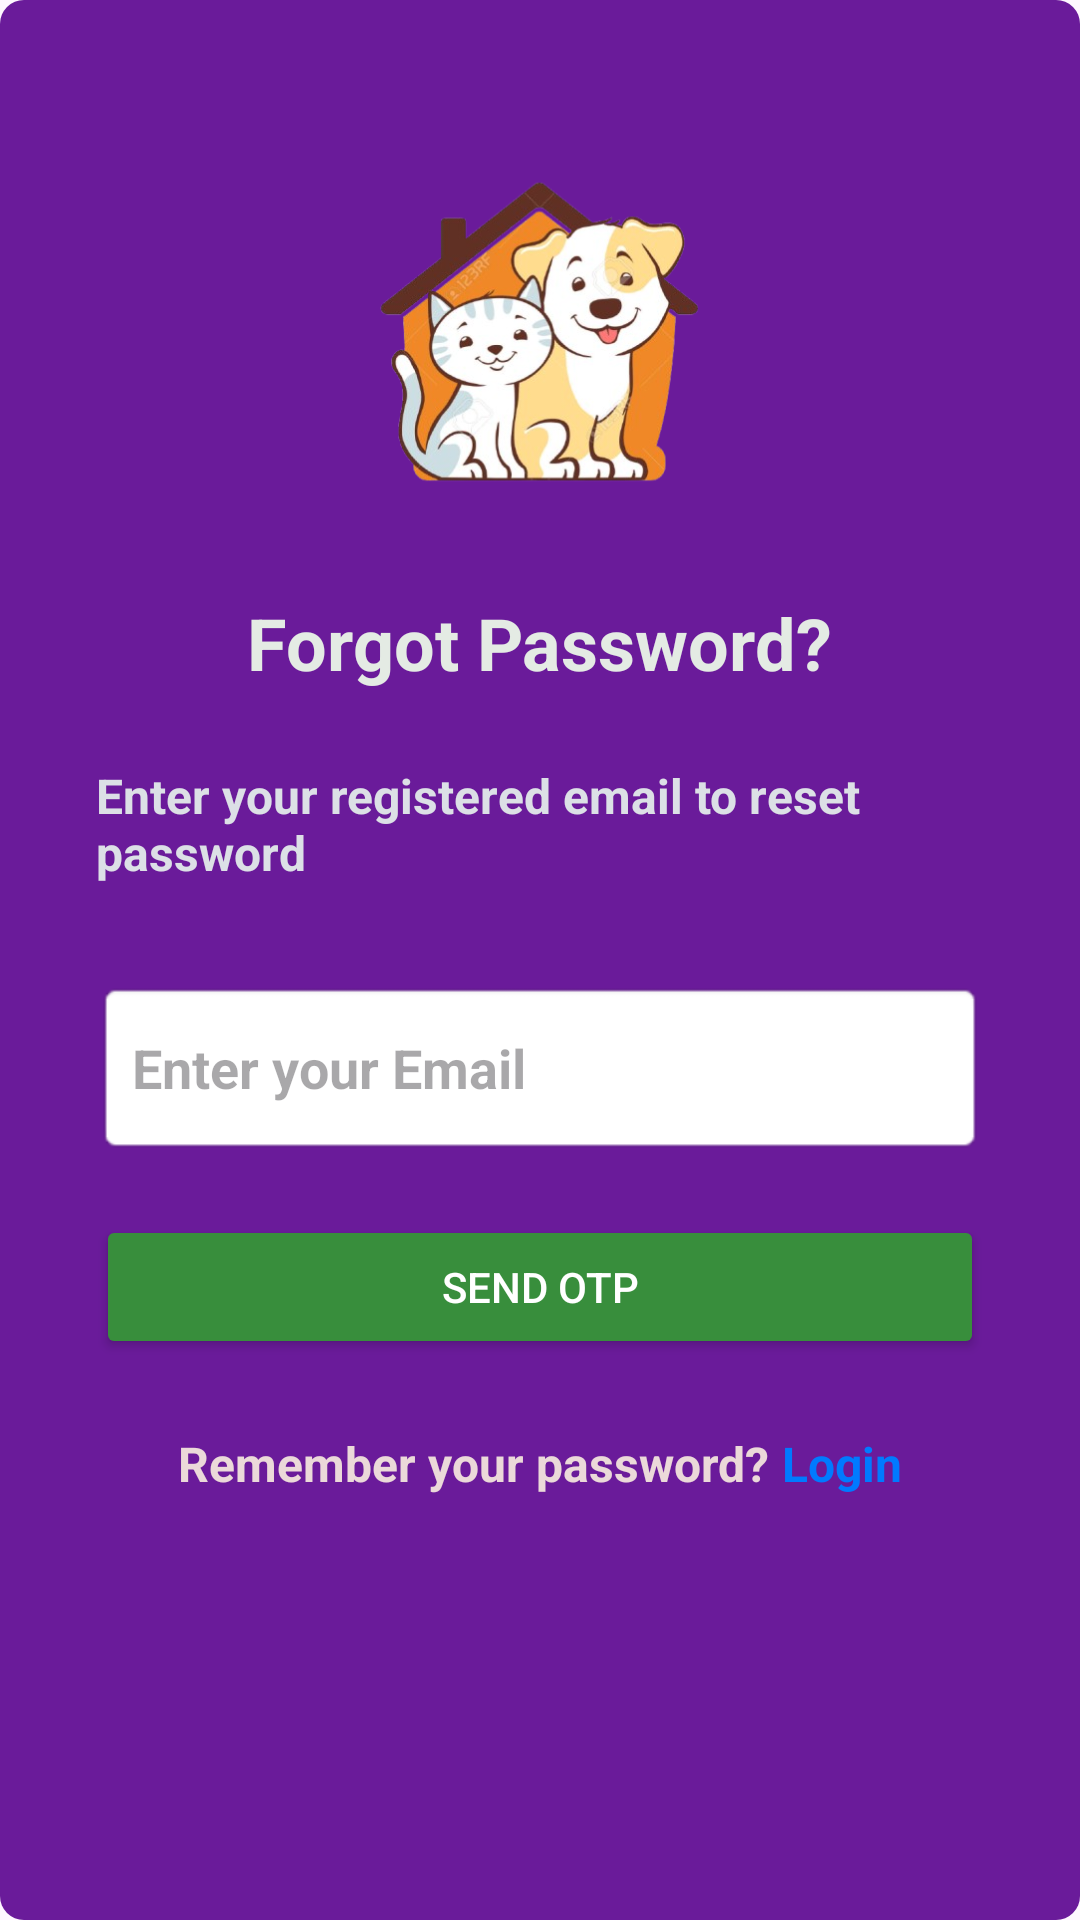

Named icons in this screenshot (1080px×1920px) and their bounding boxes, (x1, y1, x2, y2):
dog: (381, 182, 698, 481)
